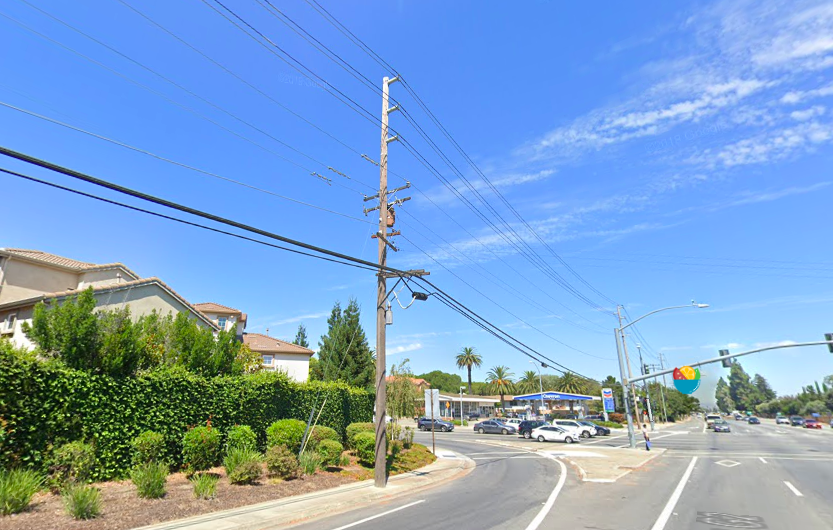utility_pole: (356, 62, 418, 258)
